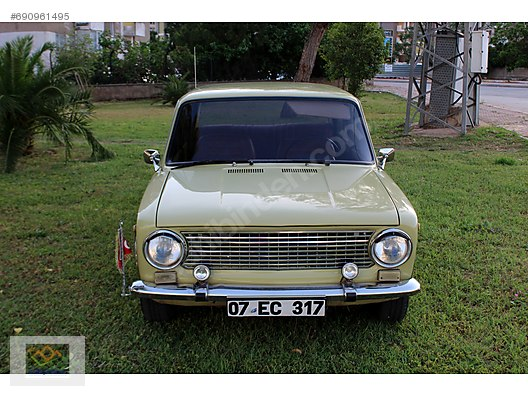murat: (115, 76, 430, 331)
